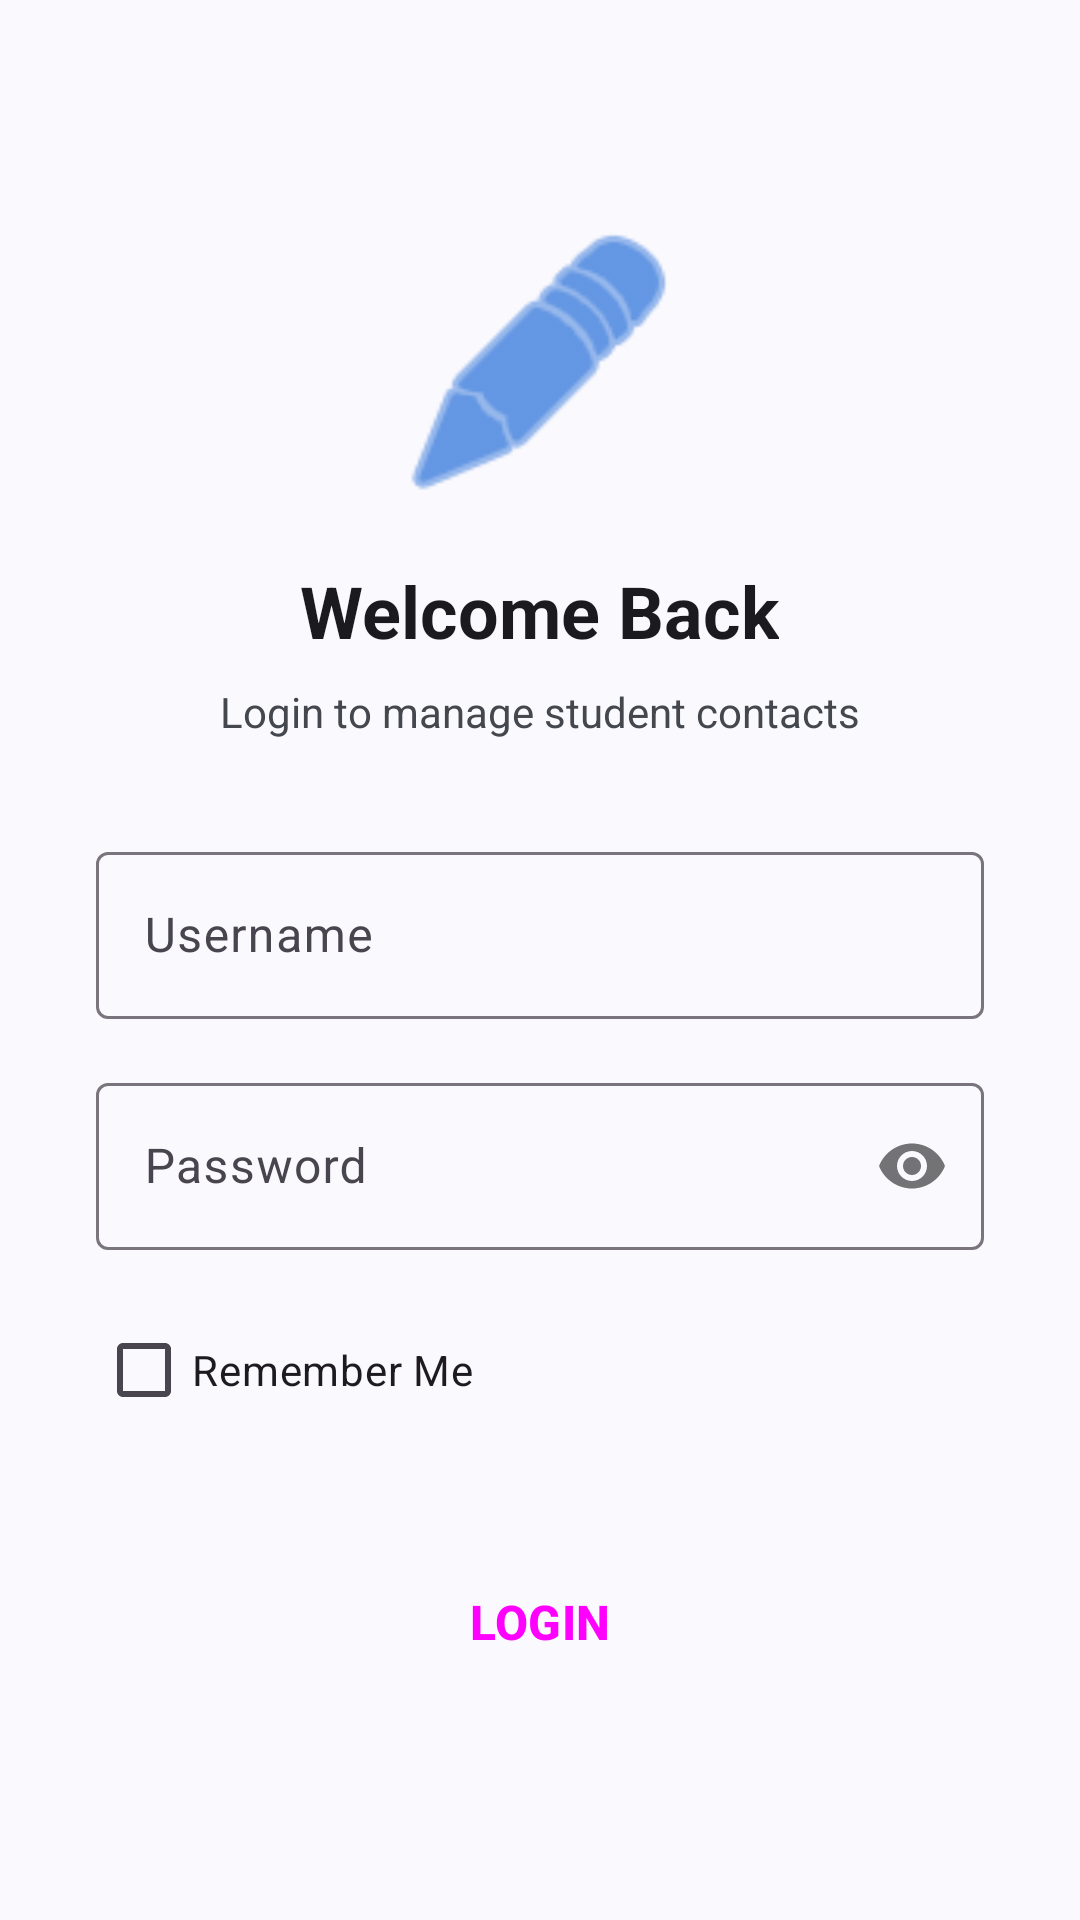

Screen size 1080w x 1920h. Icon name, then its center in pixels as [x,y]:
edit: [539,362]
